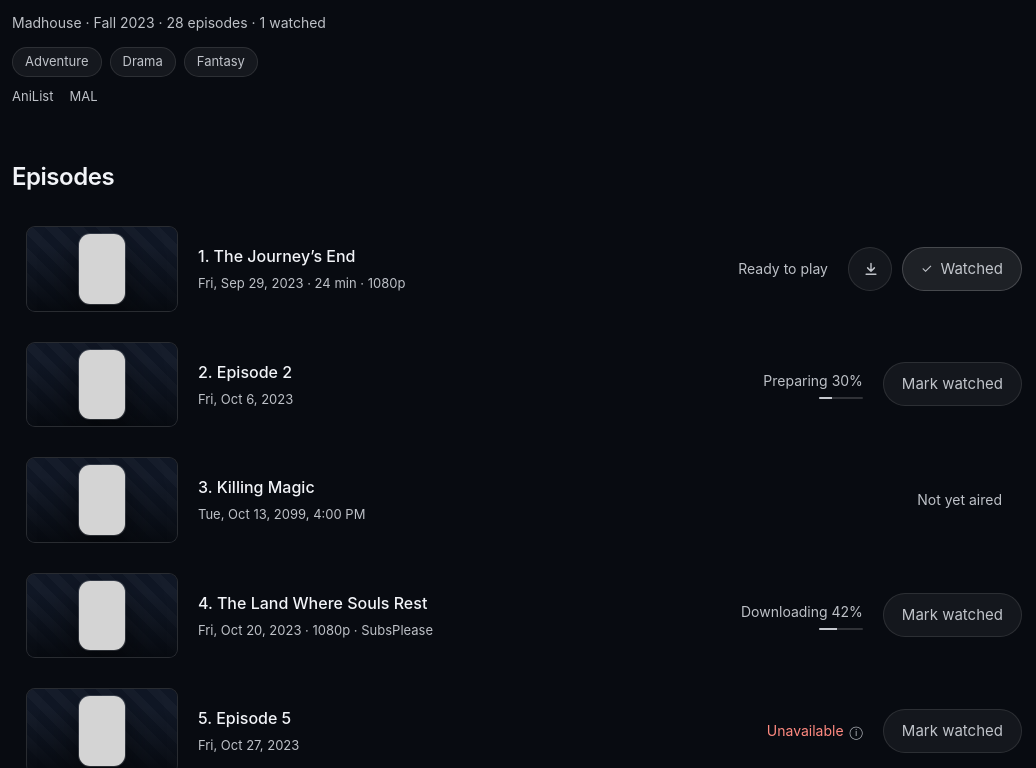
Show › marking an episode watched (FR-W3) › says so when the write fails
The width and height of the screenshot is (1036, 768).
(page scrolled)
Click the button "Mark watched" next to "Preparing 30%". click: (952, 384)
box: [883, 362, 1022, 406]
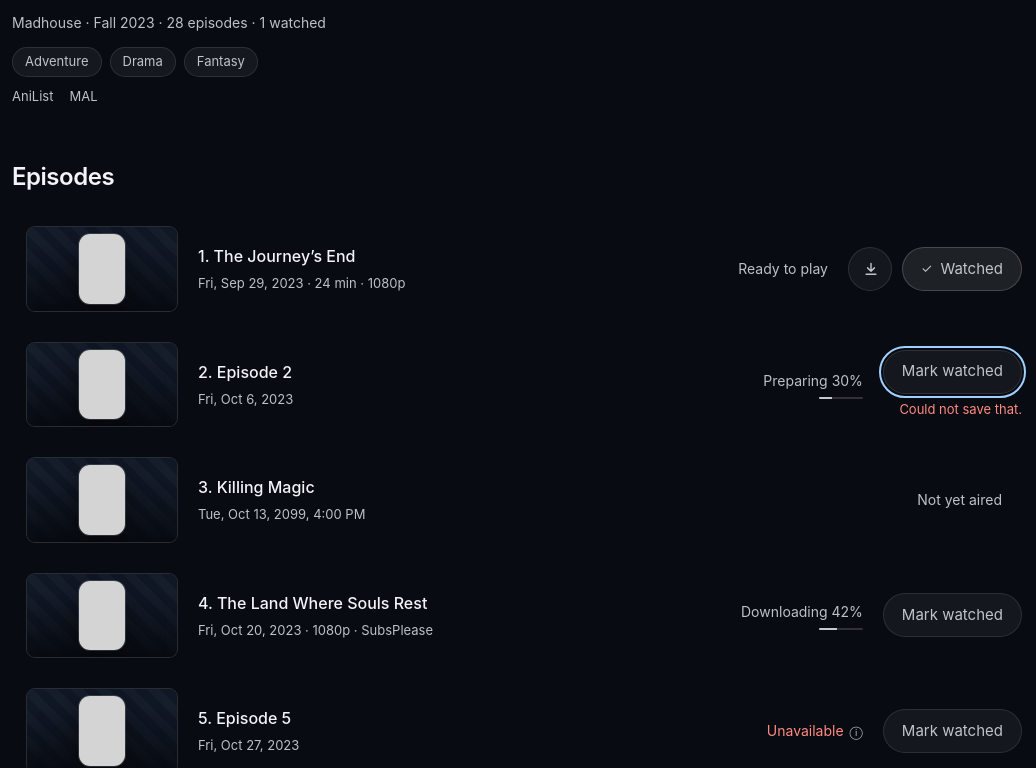
Now the message reads "Could not save that.", box [899, 400, 1022, 416]
